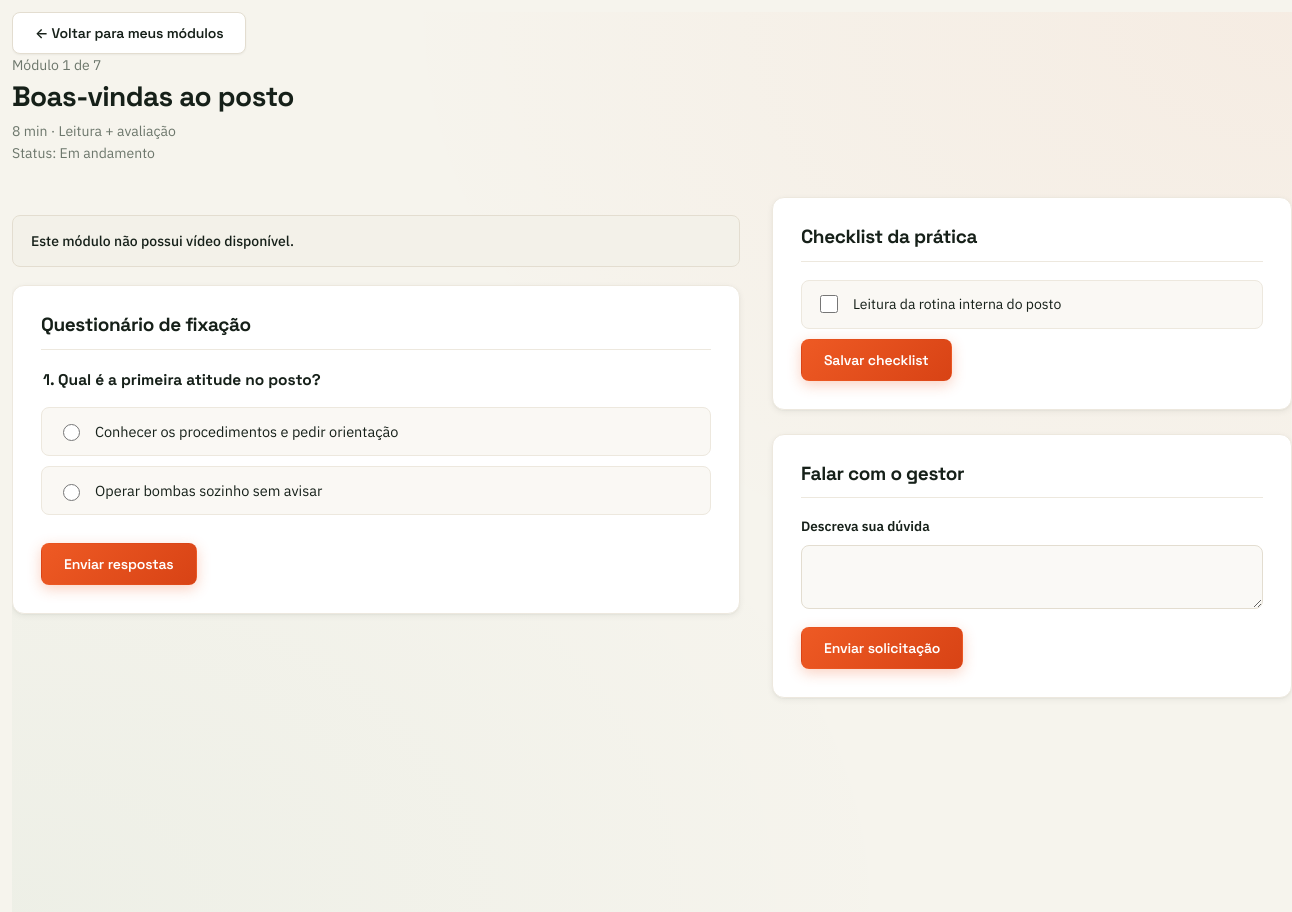
ModuloInterno Component › permite marcar o checklist e salvar
Expected: the text "Leitura da rotina interna do posto" is shown, [801, 280, 1263, 329]
Click the checkbox: (829, 304) [820, 295, 838, 313]
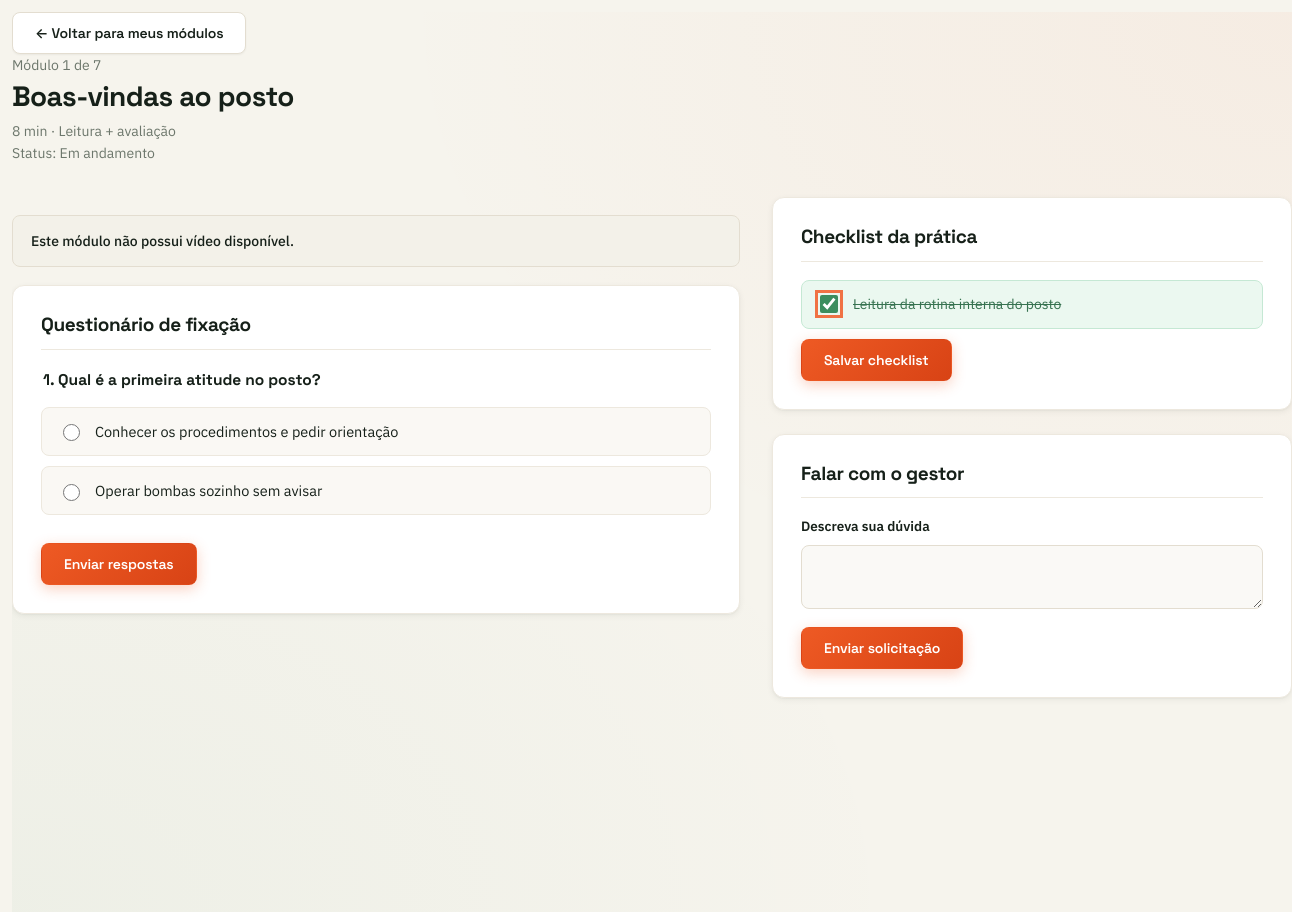
Expected: the checkbox is checked, [820, 295, 838, 313]
Click the button "Salvar checklist": (876, 360) [801, 339, 952, 381]
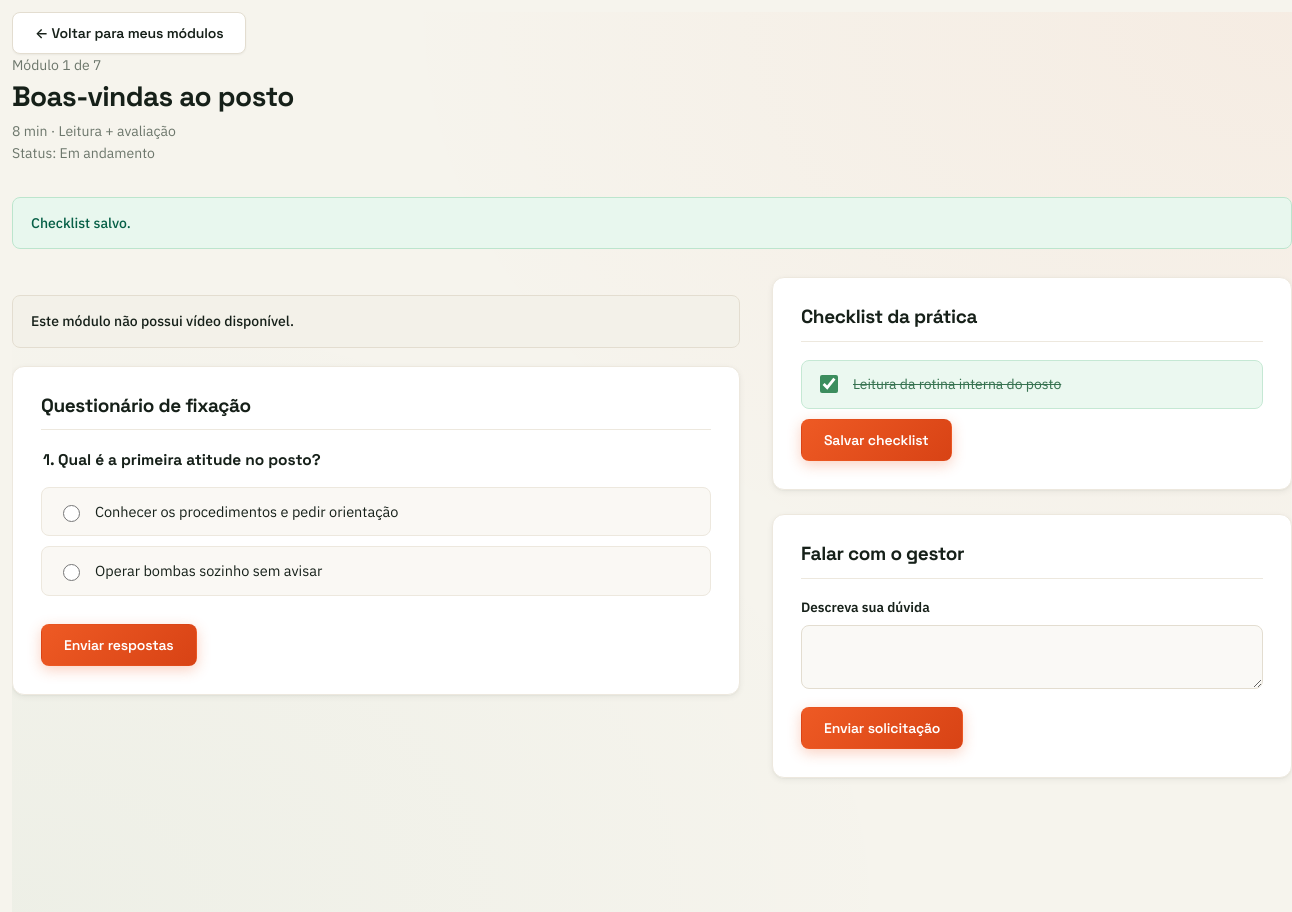
Expected: the message shows "Checklist salvo", [31, 214, 131, 232]
